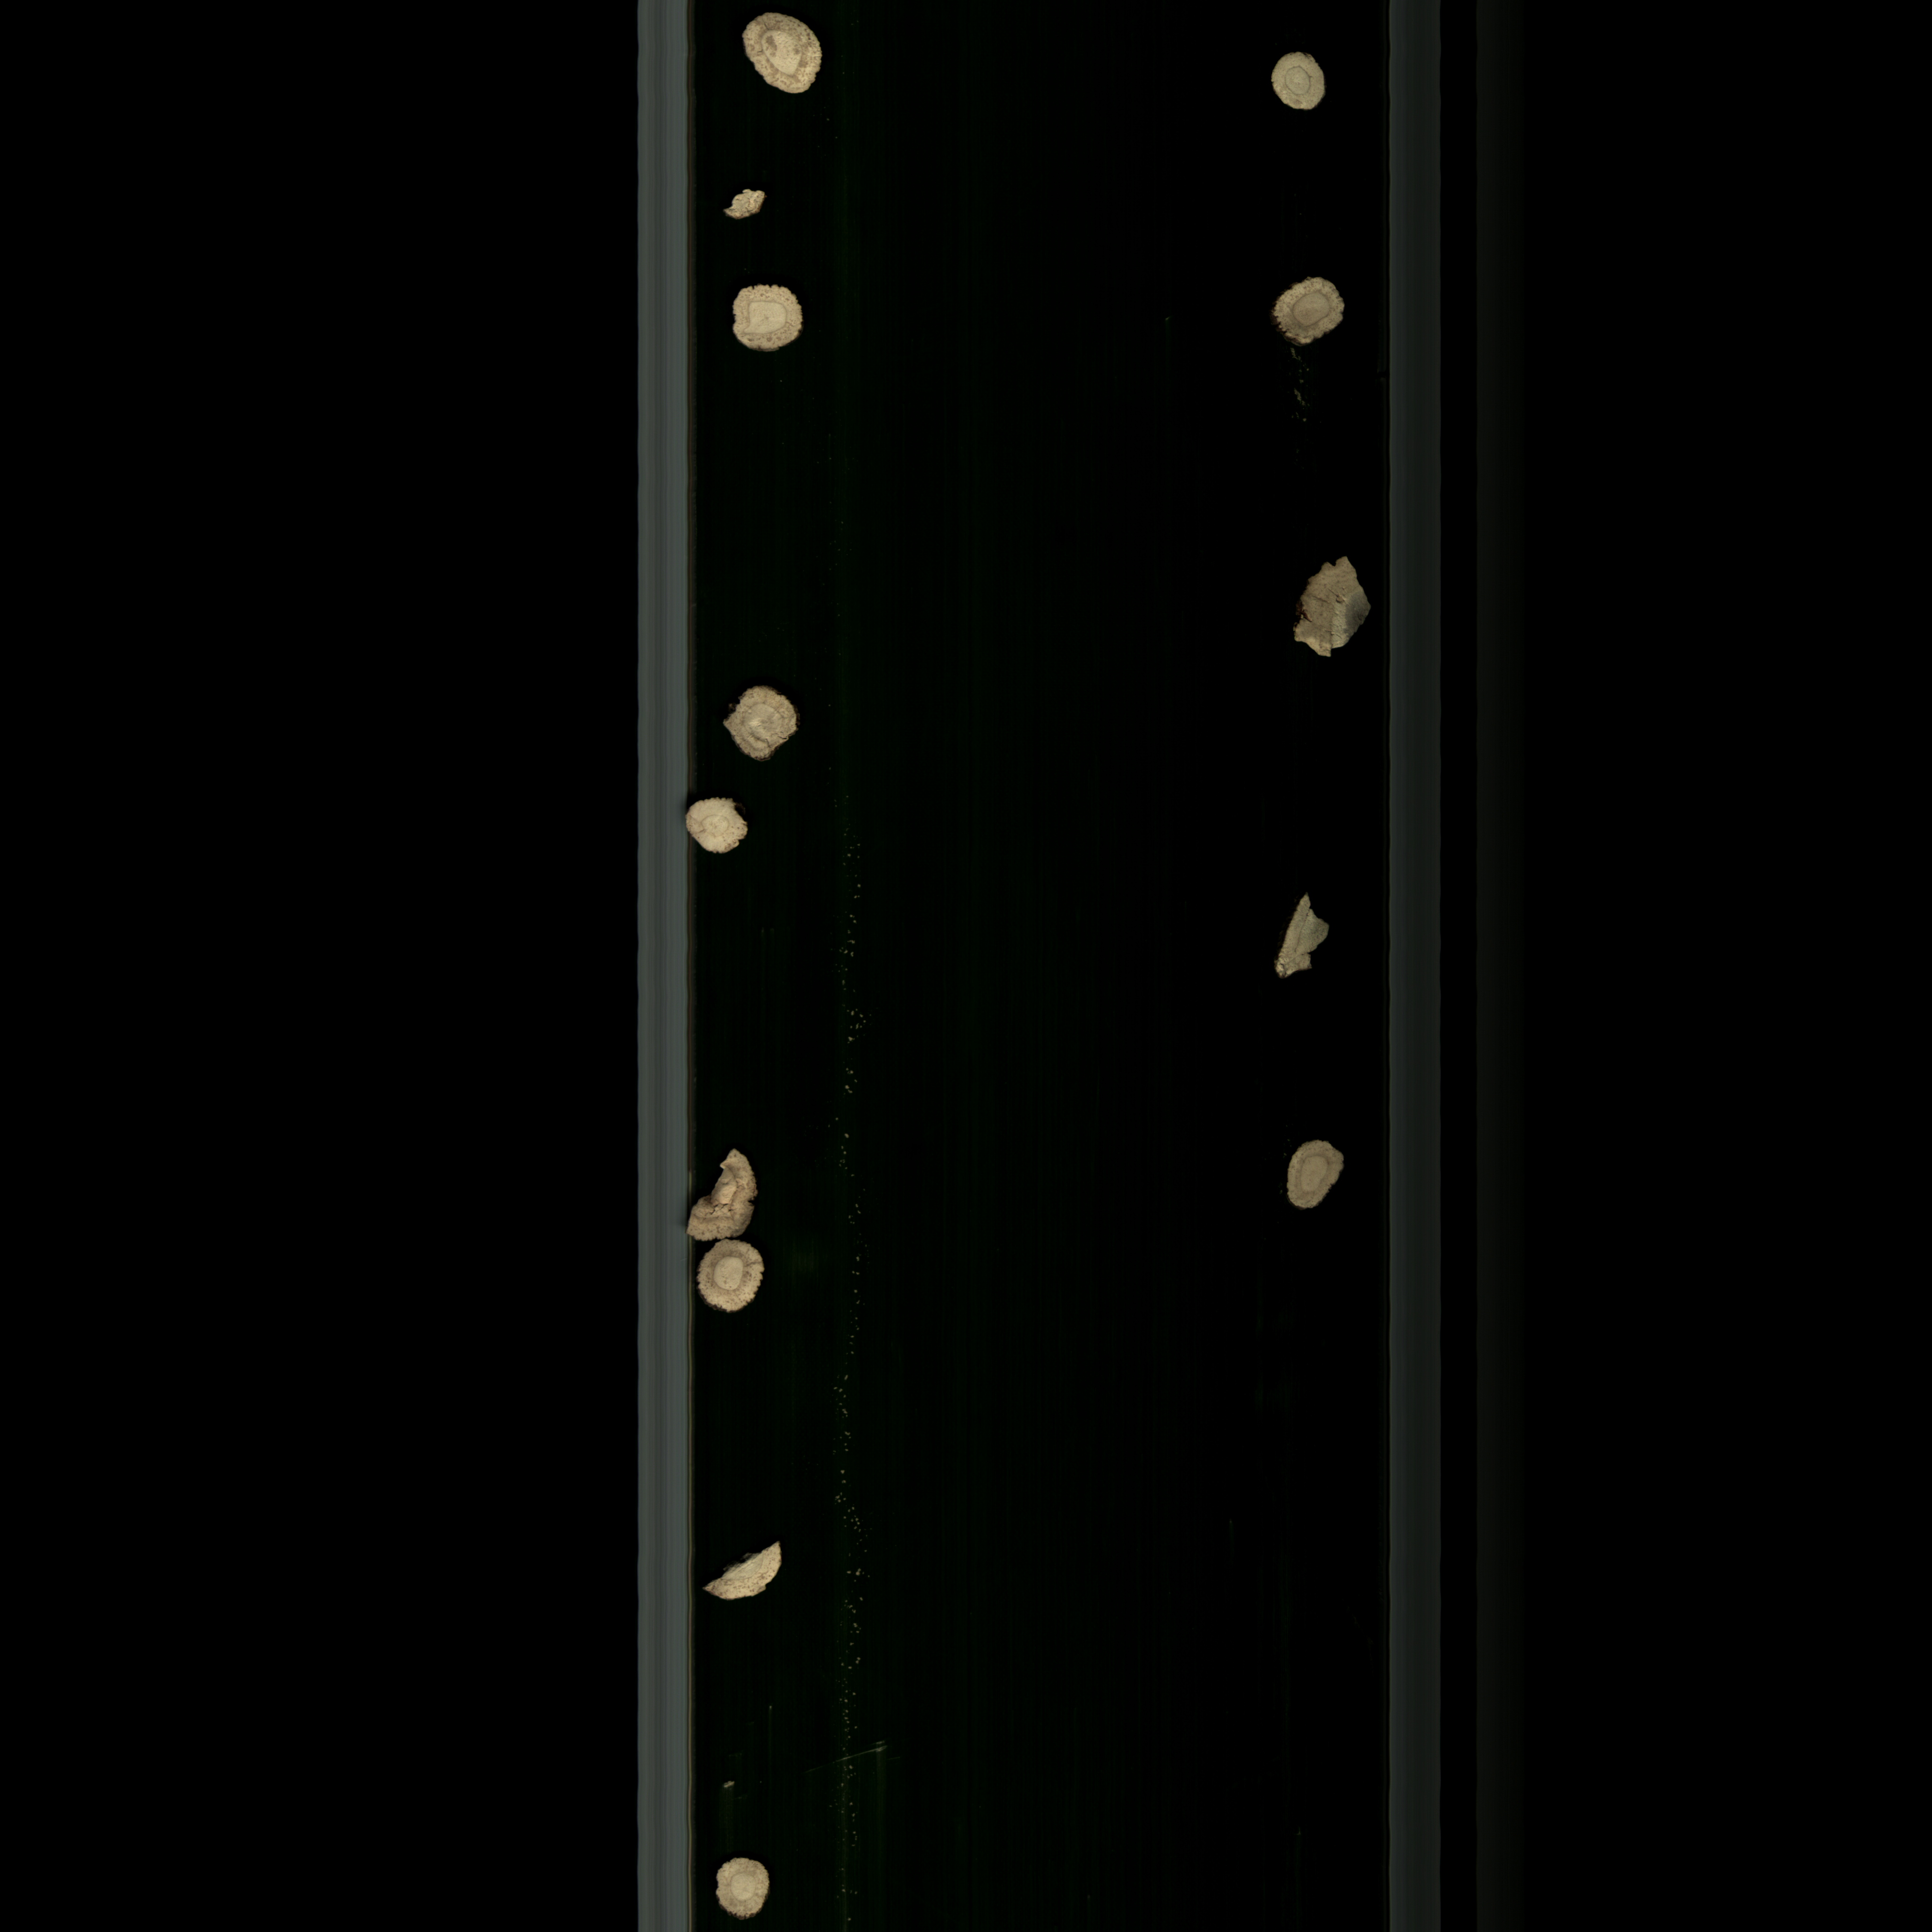debris: (697, 1532, 805, 1617), (1263, 878, 1339, 998), (686, 1143, 773, 1247), (686, 794, 754, 863)
distortion: (1269, 1134, 1368, 1230), (717, 683, 812, 777), (718, 281, 821, 361)
dreg: (720, 180, 784, 239)
moldy: (1283, 550, 1380, 676), (734, 7, 835, 110), (1263, 271, 1368, 354)
